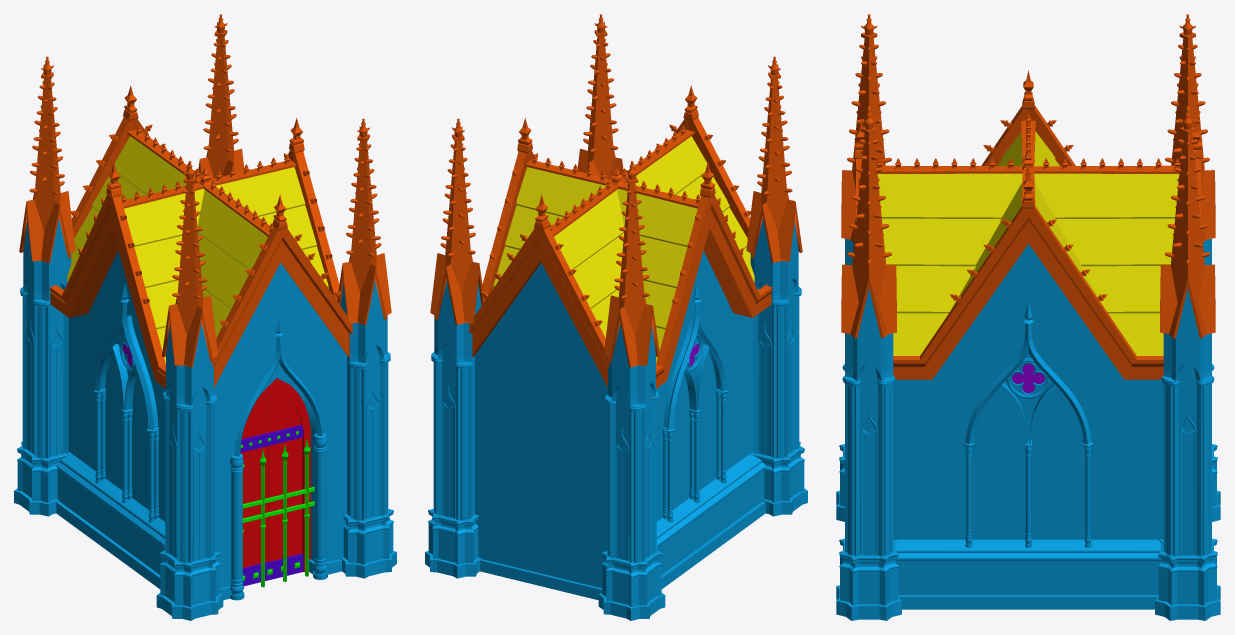
Rendered from graveyard_mausoleum.fbx.
3 views of the same model, side by side, from view 1: azimuth 30°, elevation 25°; view 2: azimuth 150°, elevation 25°; view 3: azimuth 270°, elevation 25° (orthographic). The views are drawn at different scales.
Visible parts, largest first — view 1: mausoleum_high, mausoleum_pillars.001, mausoleum_roofroof.001; view 2: mausoleum_high, mausoleum_pillars.001, mausoleum_roofroof.001; view 3: mausoleum_high, mausoleum_pillars.001, mausoleum_roofroof.001.
Part boxes in pixels (box(x1,y1,x2,y2)): mausoleum_high: box(56, 251, 346, 600); mausoleum_pillars.001: box(14, 14, 396, 620); mausoleum_roofroof.001: box(49, 85, 352, 388); mausoleum_high: box(475, 250, 765, 600); mausoleum_pillars.001: box(425, 14, 807, 620); mausoleum_roofroof.001: box(469, 85, 772, 388); mausoleum_high: box(893, 244, 1163, 609); mausoleum_pillars.001: box(836, 14, 1220, 620); mausoleum_roofroof.001: box(854, 70, 1202, 379).
Size of the model in its own units: 164 by 311 by 217.
